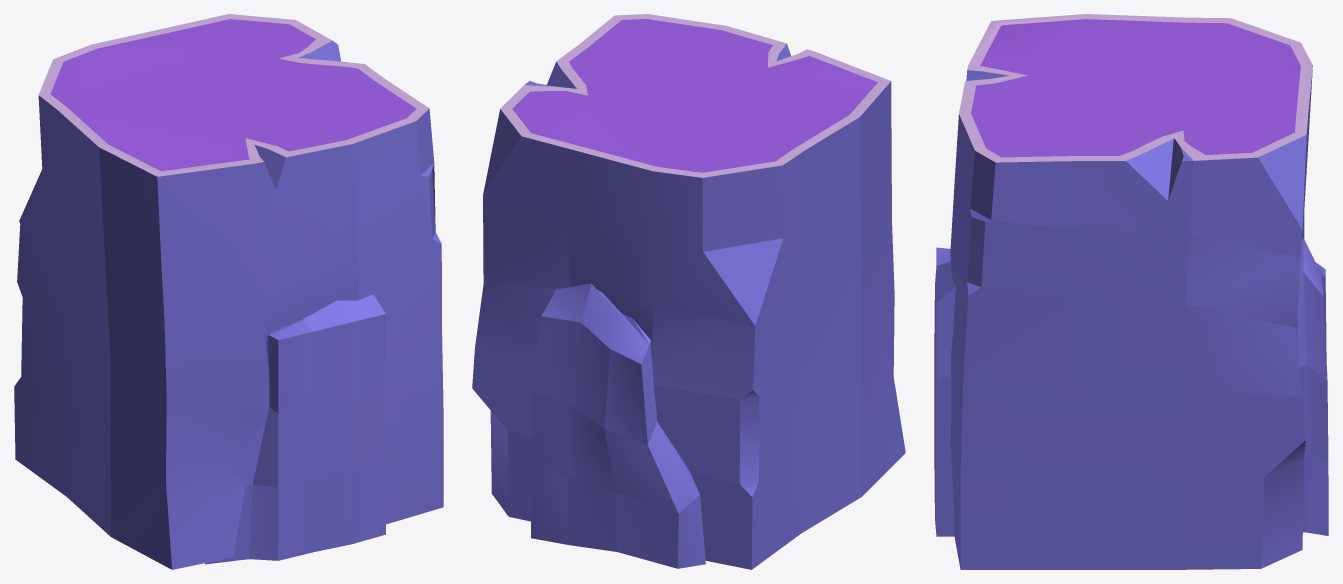
The model's file is Wall_Tile_GemGrab1.fbx.
The picture shows the model from 3 angles, left to right: view 1: azimuth 30°, elevation 25°; view 2: azimuth 150°, elevation 25°; view 3: azimuth 270°, elevation 25°; orthographic projection. The views are drawn at different scales.
Visible parts, largest first — view 1: Wall_Tile_GemGrab1; view 2: Wall_Tile_GemGrab1; view 3: Wall_Tile_GemGrab1.
Boxes of the visible parts, x1,y1,x2,y2 form: Wall_Tile_GemGrab1: (14, 14, 443, 569); Wall_Tile_GemGrab1: (472, 14, 905, 569); Wall_Tile_GemGrab1: (934, 14, 1328, 569).
Size of the model in its own units: 2.05 by 2.28 by 2.66.
